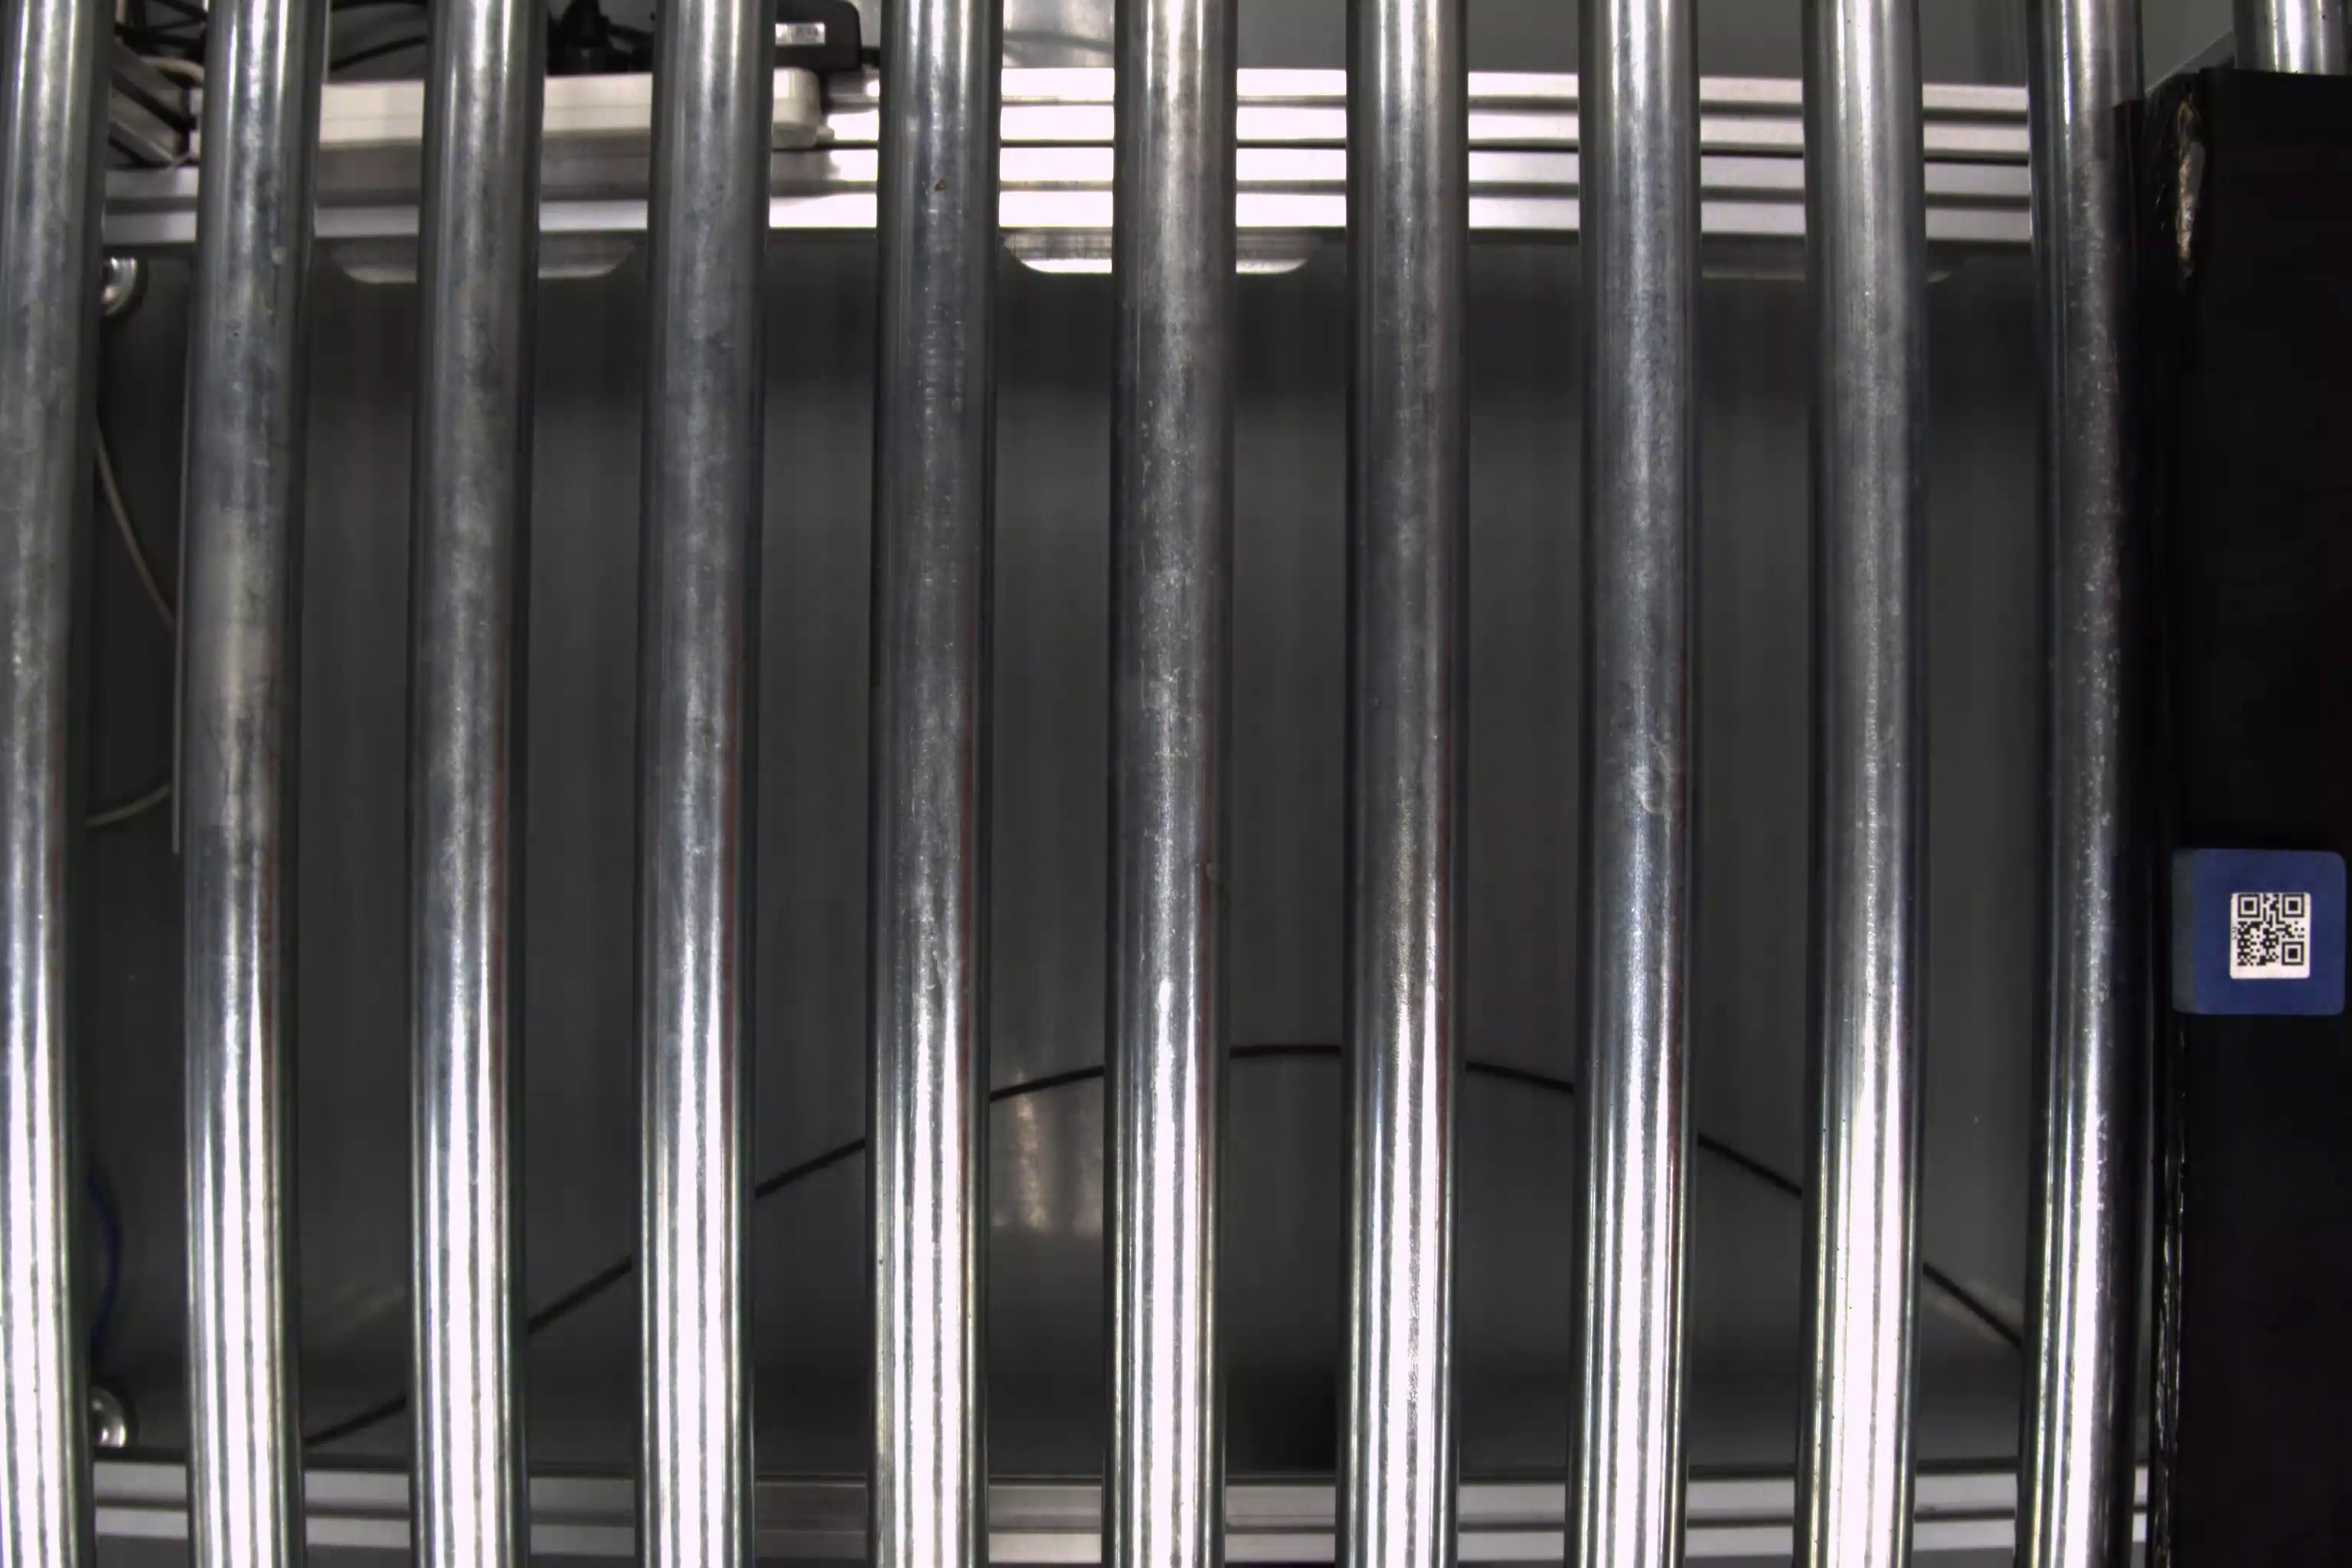wood: (2172, 849, 2345, 1022)
